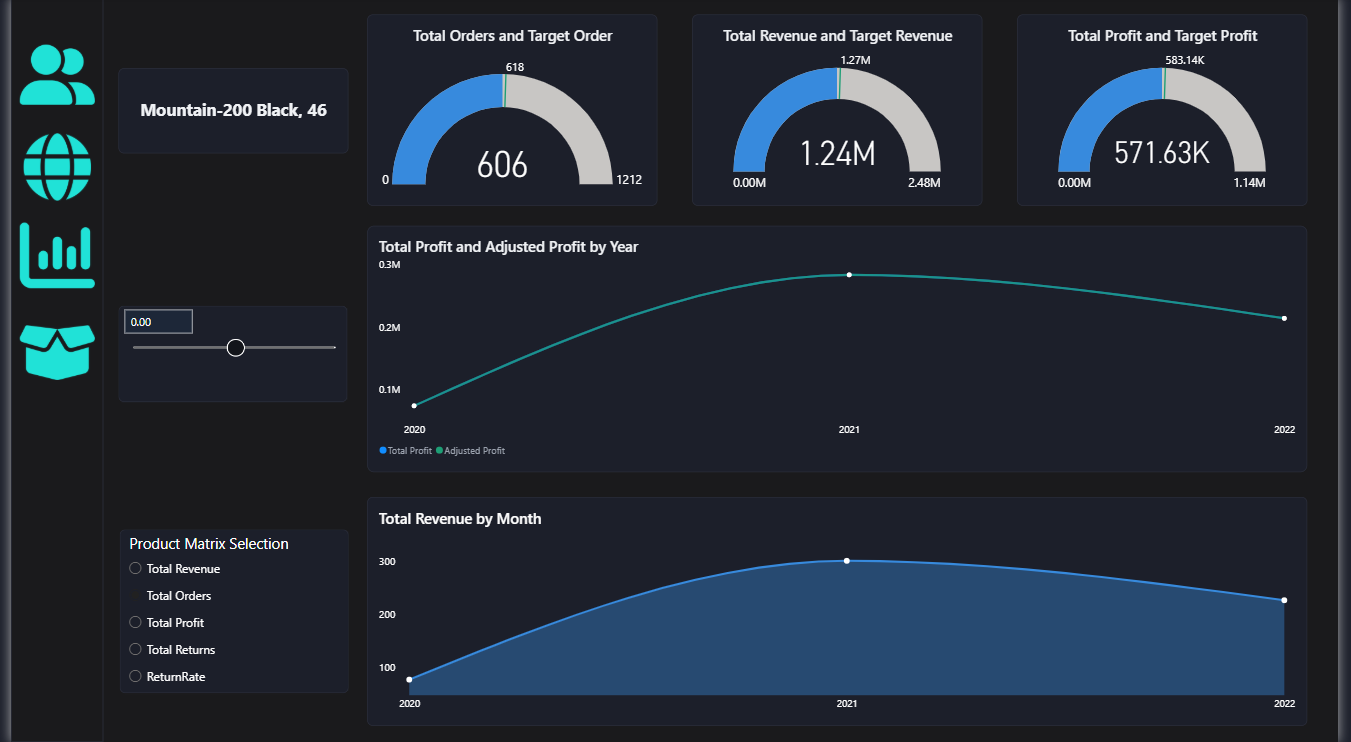

What the dashboard file says about the page in this screenshot:
{"tool":"powerbi","page":{"name":"Product","canvas":[1920,1080],"ordinal":2},"visuals":[{"type":"gauge","fields":{"TargetValue":["Measure.Target Order"],"Y":["Measure.Total Orders"]},"box":[515.8,25.3,419.8,276.9],"z":0},{"type":"shape","box":[0,0,133.9,1080],"z":1000},{"type":"gauge","fields":{"TargetValue":["Measure.Target Revenue"],"Y":["Measure.Total Revenue"]},"box":[986.3,25.3,419.8,276.9],"z":2000},{"type":"gauge","fields":{"TargetValue":["Measure.Target Profit"],"Y":["Measure.Total Profit"]},"box":[1456.8,25.3,419.8,276.9],"z":3000},{"type":"lineChart","fields":{"Category":["Dim_Calendar.Year To Day.Year","Dim_Calendar.Year To Day.Start of Quarter","Dim_Calendar.Year To Day.Start of Month","Dim_Calendar.Year To Day.Start of Week","Dim_Calendar.Year To Day.Date"],"Y":["Measure.Total Profit"],"Y2":["Measure.Adjusted Profit"]},"box":[515.8,331.2,1360.9,356.5],"z":4000},{"type":"slicer","fields":{"Values":["Adjust Price.Adjust Price"]},"box":[155.6,447,331.2,139.3],"z":5000},{"type":"areaChart","title":"Total Revenue by Month","fields":{"Category":["Dim_Calendar.Year To Day.Year","Dim_Calendar.Year To Day.Start of Quarter","Dim_Calendar.Year To Day.Start of Month","Dim_Calendar.Year To Day.Start of Week","Dim_Calendar.Year To Day.Date"],"Y":["Measure.Total Orders"]},"box":[515.8,723.9,1360.9,331.2],"z":6000},{"type":"slicer","fields":{"Values":["Product Matrix Selection.Product Matrix Selection"]},"box":[157.4,770.9,331.2,237.1],"z":7000},{"type":"card","fields":{"Values":["Min(Dim_Product.ProductName)"]},"box":[155.6,103.2,333,123.1],"z":8000},{"type":"group","id":"g1","title":"Group 1","box":[12.7,56.1,108.6,517.6],"z":8001},{"type":"image","box":[12.7,56.1,108.6,112.9],"z":13000,"group":"g1"},{"type":"image","box":[12.7,196.8,108.6,97.3],"z":14000,"group":"g1"},{"type":"image","box":[12.7,318.4,108.6,111.2],"z":15000,"group":"g1"},{"type":"image","box":[12.7,455.6,108.6,118.1],"z":17000,"group":"g1"}]}

Visuals, with their boxes on the page's 1920x1080 design canvas (x1, y1, x2, y2). These are canvas units, not pixel positions in the 1351x742 screenshot, which may show the page scaled, cropped or inside an application window:
gauge - Measure.Target Order x Measure.Total Orders: (516, 25, 936, 302)
shape: (0, 0, 134, 1080)
gauge - Measure.Target Revenue x Measure.Total Revenue: (986, 25, 1406, 302)
gauge - Measure.Target Profit x Measure.Total Profit: (1457, 25, 1877, 302)
lineChart - Dim_Calendar.Year To Day.Year x Dim_Calendar.Year To Day.Start of Quarter: (516, 331, 1877, 688)
slicer - Adjust Price.Adjust Price: (156, 447, 487, 586)
"Total Revenue by Month" areaChart: (516, 724, 1877, 1055)
slicer - Product Matrix Selection.Product Matrix Selection: (157, 771, 489, 1008)
card - Min(Dim_Product.ProductName): (156, 103, 489, 226)
"Group 1" group: (13, 56, 121, 574)
image: (13, 56, 121, 169)
image: (13, 197, 121, 294)
image: (13, 318, 121, 430)
image: (13, 456, 121, 574)
